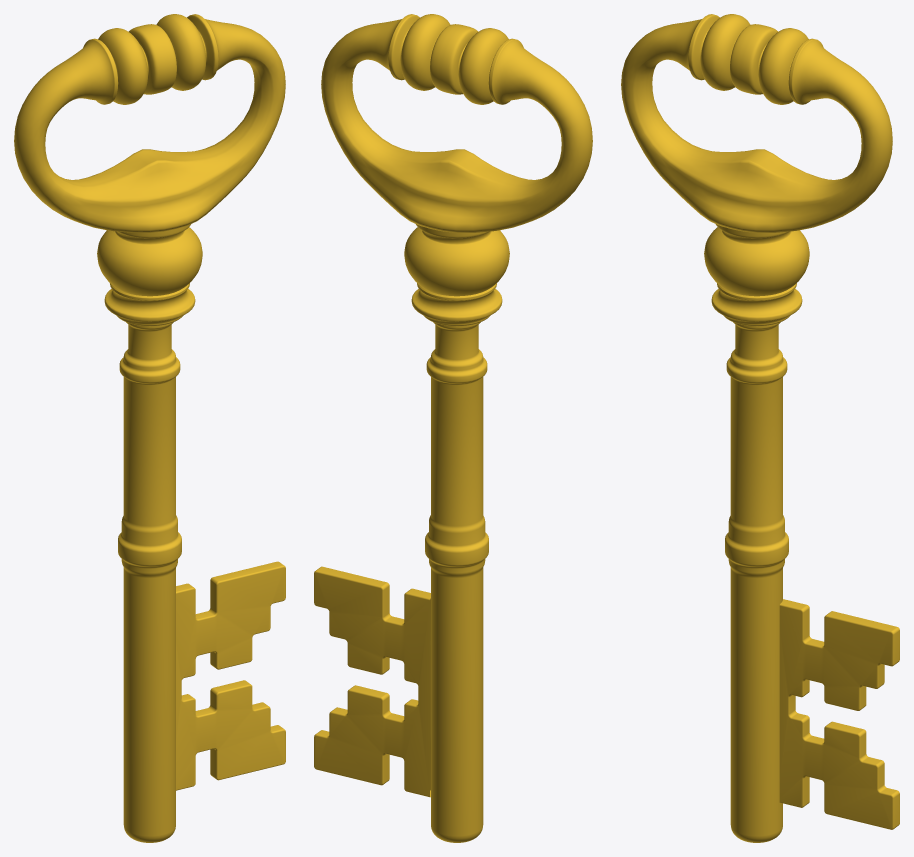
Rendered from KEY .fbx.
3 views of the same model, side by side, from view 1: azimuth 30°, elevation 25°; view 2: azimuth 150°, elevation 25°; view 3: azimuth 330°, elevation 25° (orthographic).
Visible parts, largest first — view 1: Key.OBJ.1; view 2: Key.OBJ.1; view 3: Key.OBJ.1.
Part boxes in pixels (left/top/right/bottom): Key.OBJ.1: left=14, top=14, right=285, bottom=842; Key.OBJ.1: left=314, top=14, right=592, bottom=842; Key.OBJ.1: left=621, top=14, right=899, bottom=842.
Size of the model in its own units: 374 by 1076 by 130.
